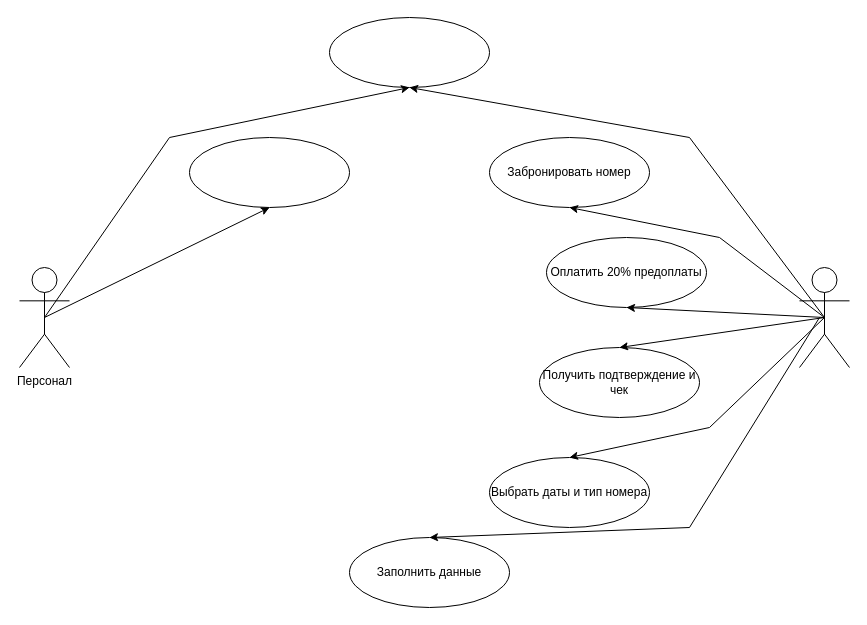
Image size: 867x625. Some labels were removed from this diagram. Here are the shapes that lost their labels. From the top down, the centre of each, then its label:
(409,52): Отменить бронь
(269,172): Просмотреть отчеты
(824,317): Клиент
